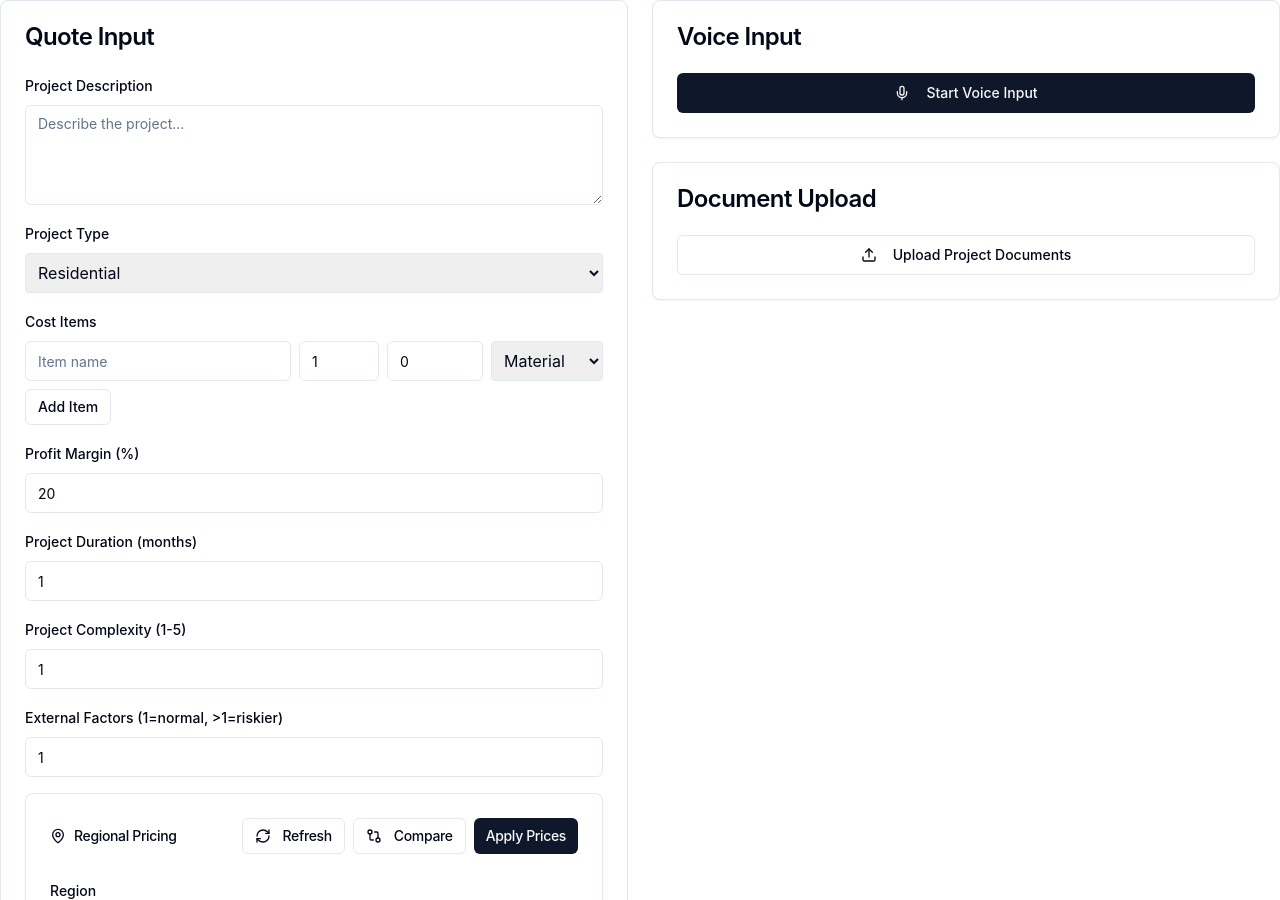
Scenario: QuoteEngine › handles voice input toggle
Click the button "Start Voice Input".
click(966, 93)  # box [677,73,1255,113]
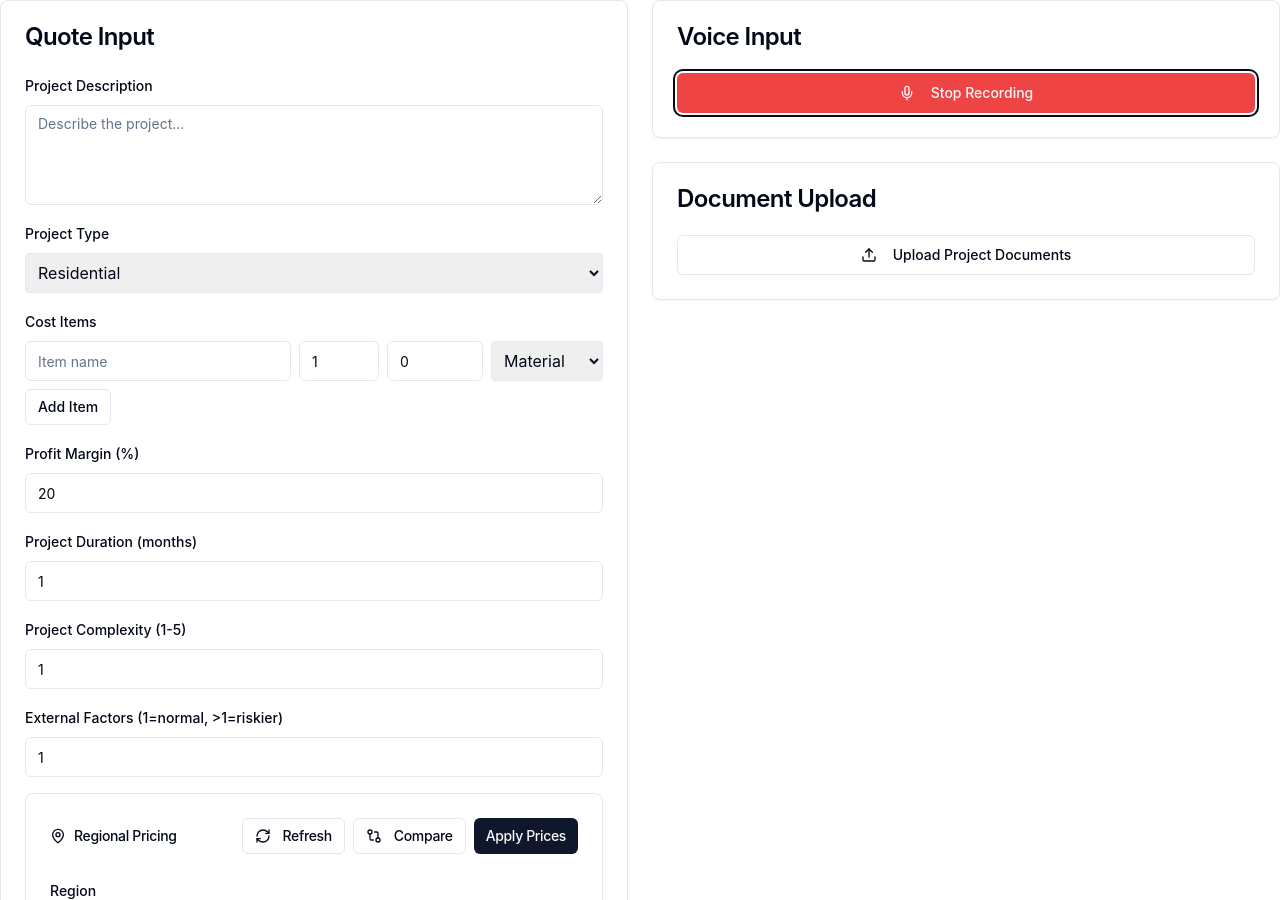
Check: the button "Stop Recording" is shown, box [677,73,1255,113]
